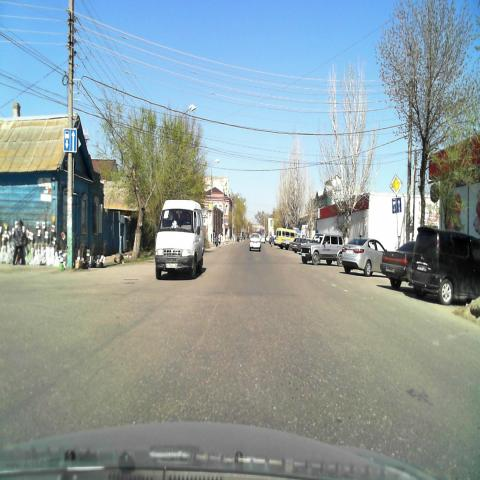5_11: (64, 129, 78, 153), (392, 197, 402, 214)
